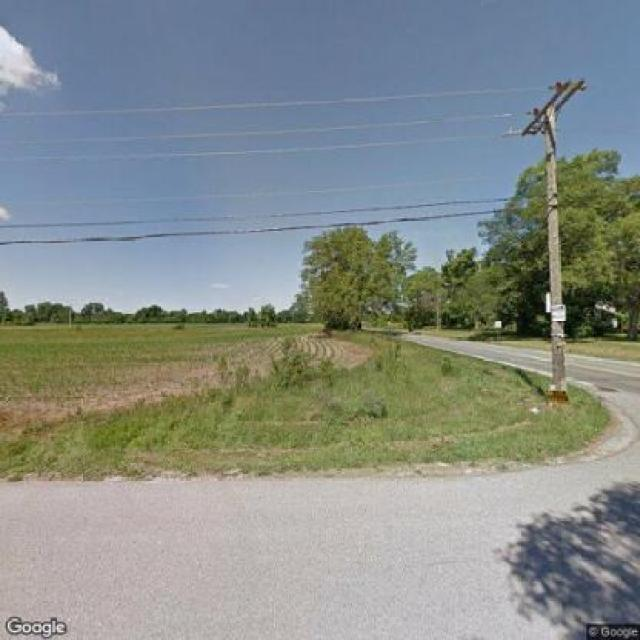pole: (511, 74, 598, 389)
